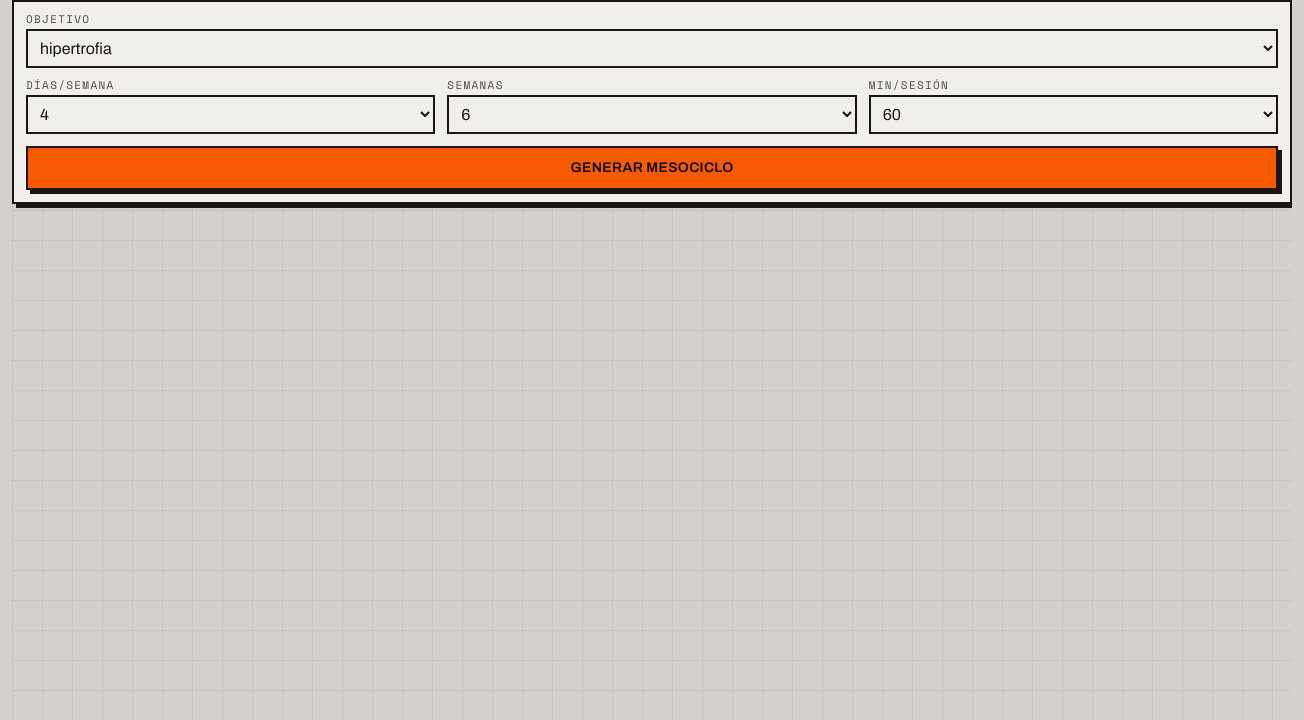
Test: generar: postea params+snapshot+catalogo y pinta la revisión
Click the button "Generar mesociclo".
click(652, 168)  # box [26,146,1278,190]
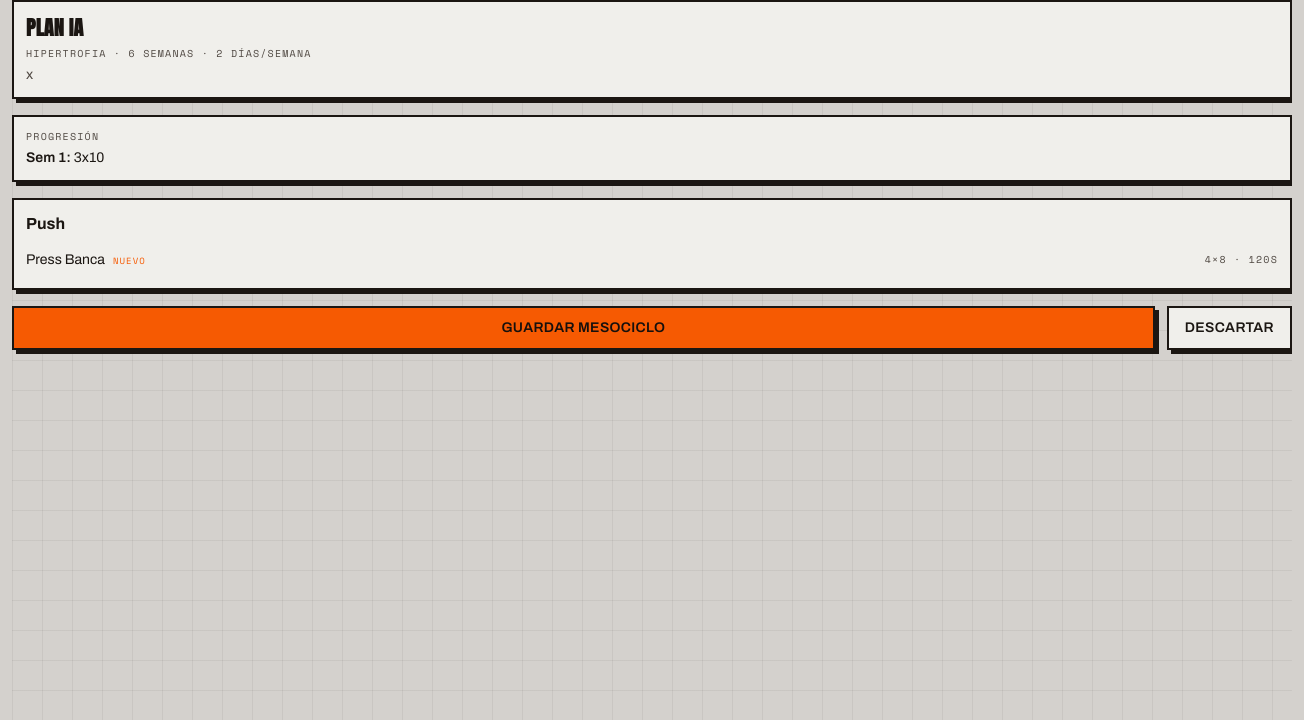
expect the heading "Plan IA" is shown: met, box [26,12,83,43]
expect the heading "Push" is shown: met, box [26,215,65,232]
expect the text "Press Banca" is shown: met, box [26,252,105,267]
